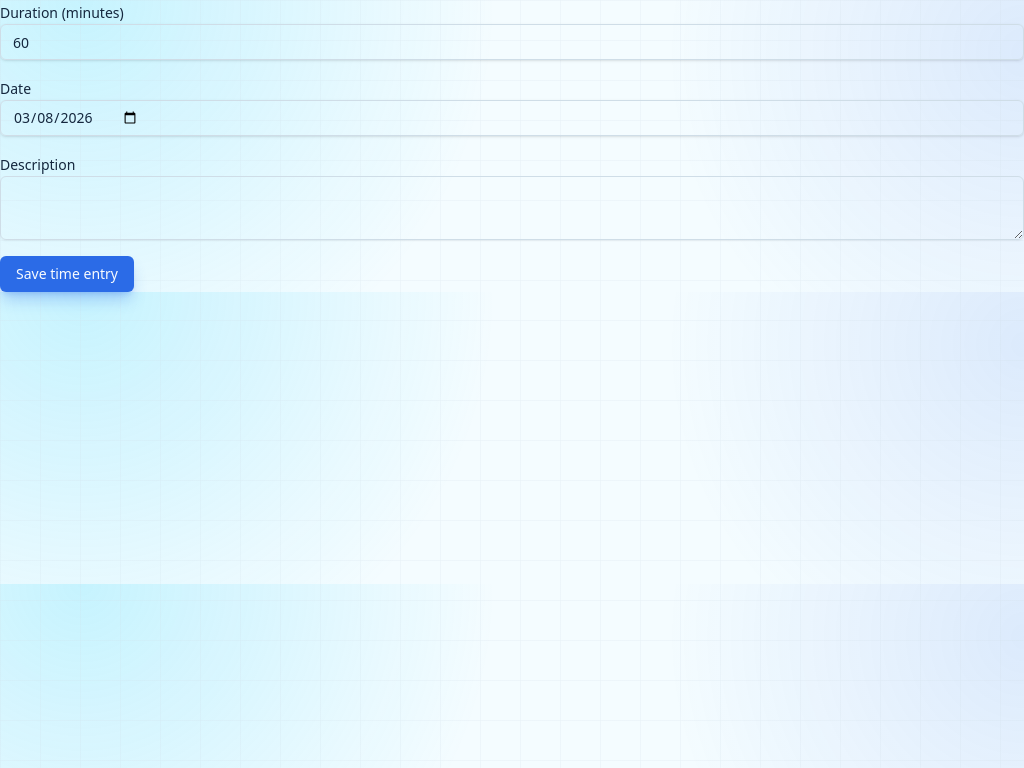
Test case: TimeEntryForm › validates duration and date
The image size is (1024, 768).
Step 1. Replace the text in the number field labelled "Duration (minutes)" with "0" → (512, 42), box [0, 24, 1023, 60]
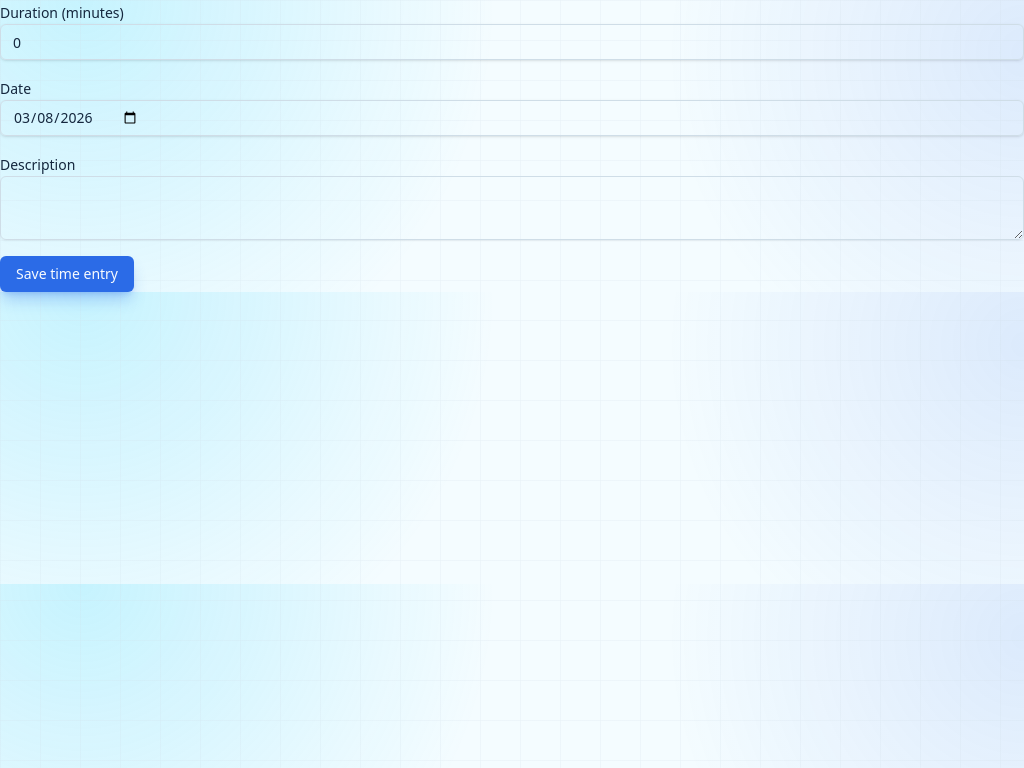
Step 2. Click the button "Save time entry" → (67, 274), box [0, 256, 134, 292]
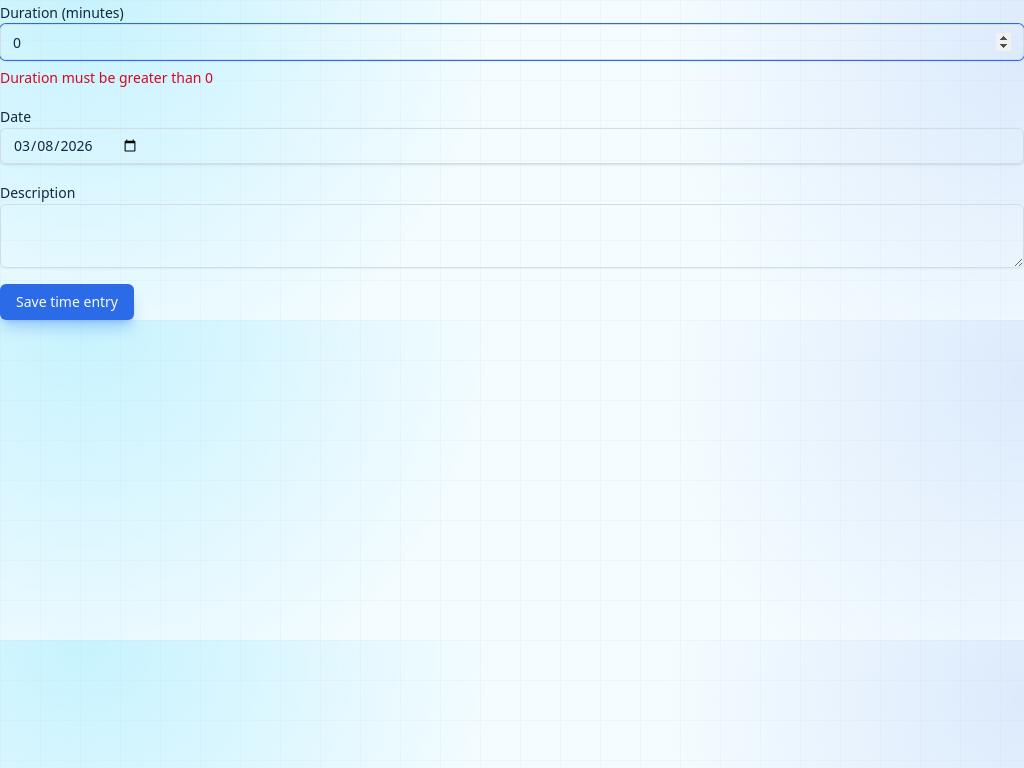
Check: the text "Duration must be greater than 0" is shown, box [0, 68, 213, 87]
